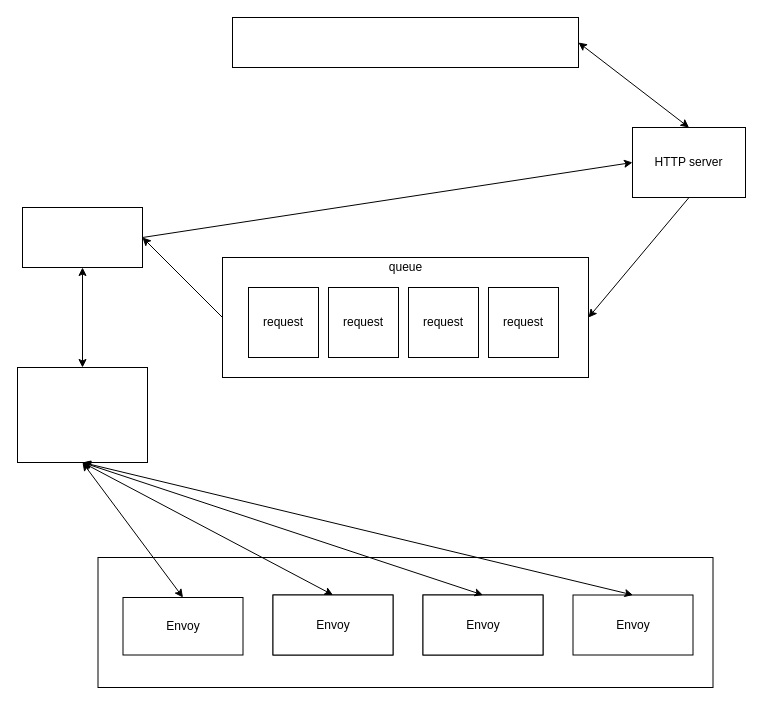
Some shapes in this 763 by 705 pixel diagram are drawn without their labels. The centre of each missing label's shape, as x and y in pixels:
"ConfigWatcherImpl" belongs at point (82, 237).
"gRPC server" belongs at point (82, 414).
"Service Discovery" belongs at point (405, 42).
